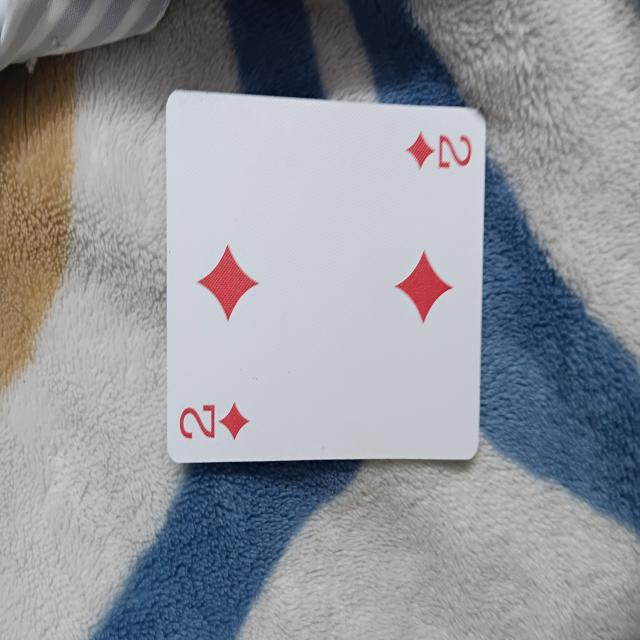2D: (166, 92, 482, 468)
